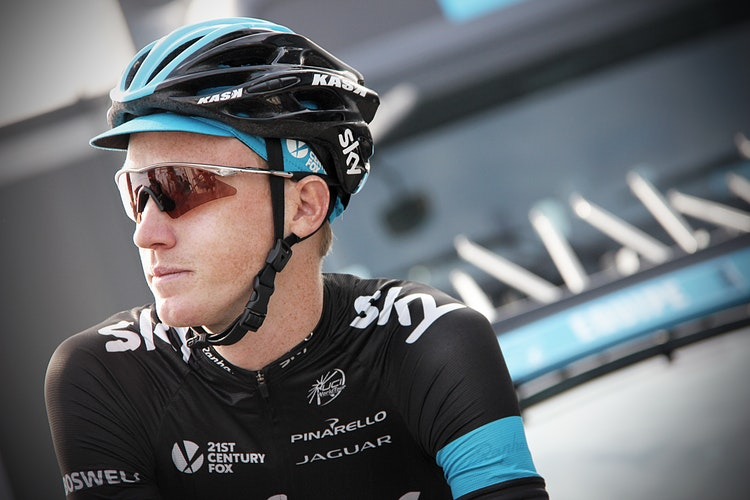helmet: (132, 15, 382, 194)
